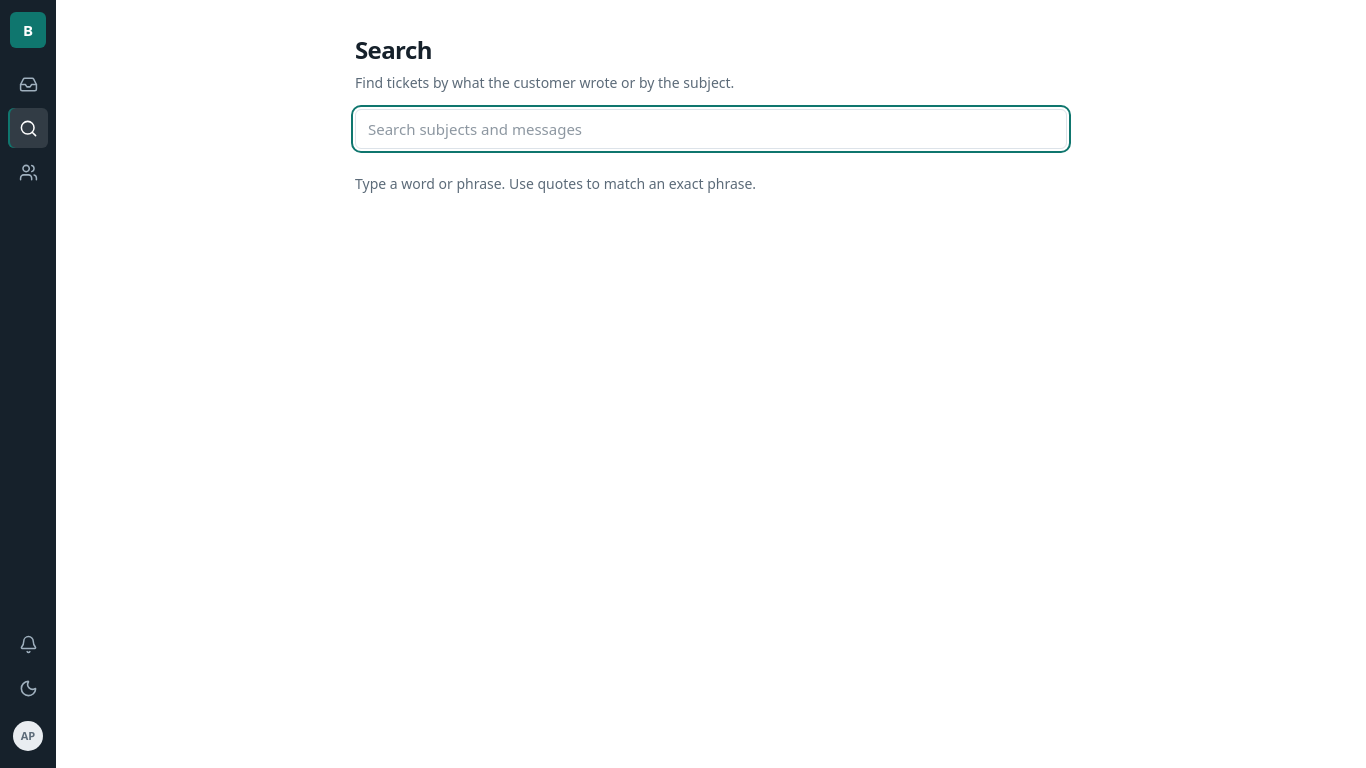
Test: search › shows highlighted matches, escapes markup, and explains an empty result
Type "boiler" into the search field named "Search tickets" at (711, 129), box [355, 109, 1067, 149]
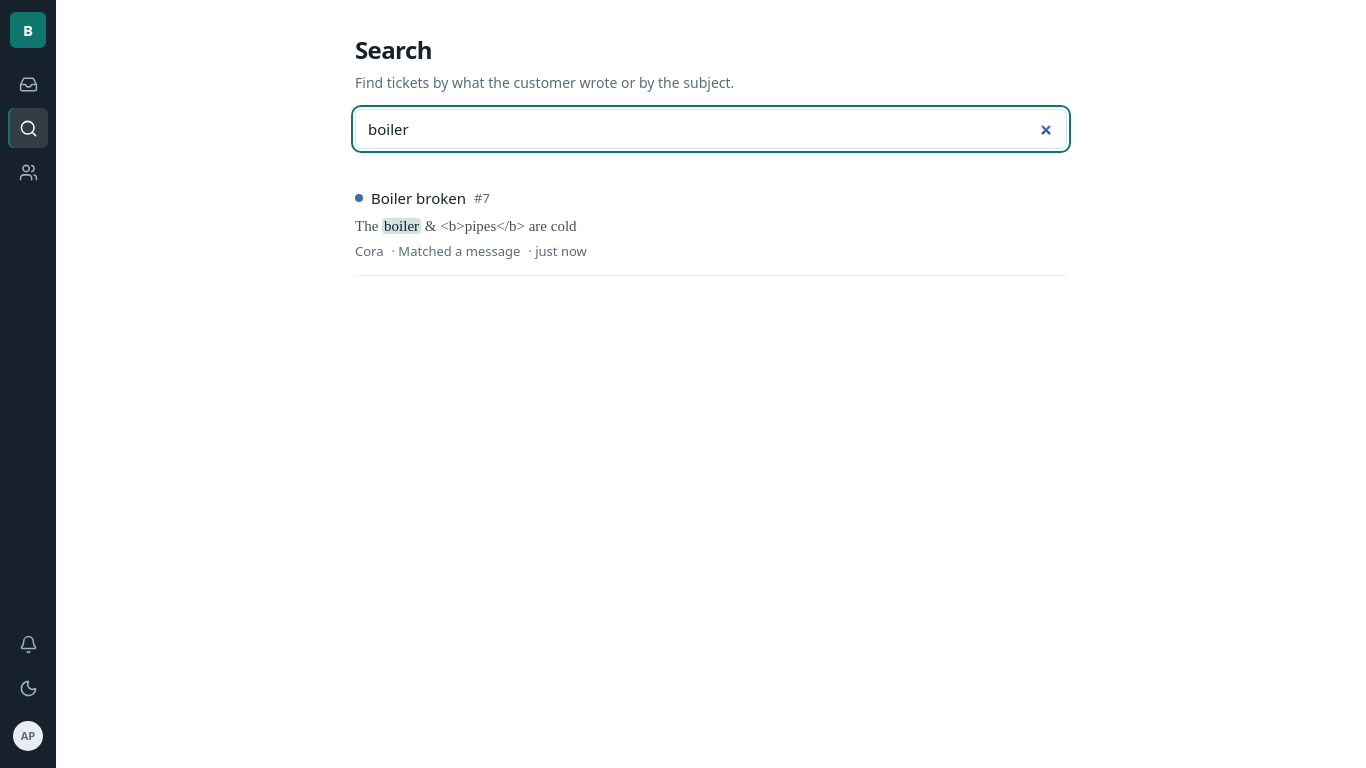
Check: the text "& <b>pipes</b> are cold" is shown, box [421, 218, 577, 234]
Replace the text in the search field named "Search tickets" with "nothing" at (711, 129), box [355, 109, 1067, 149]
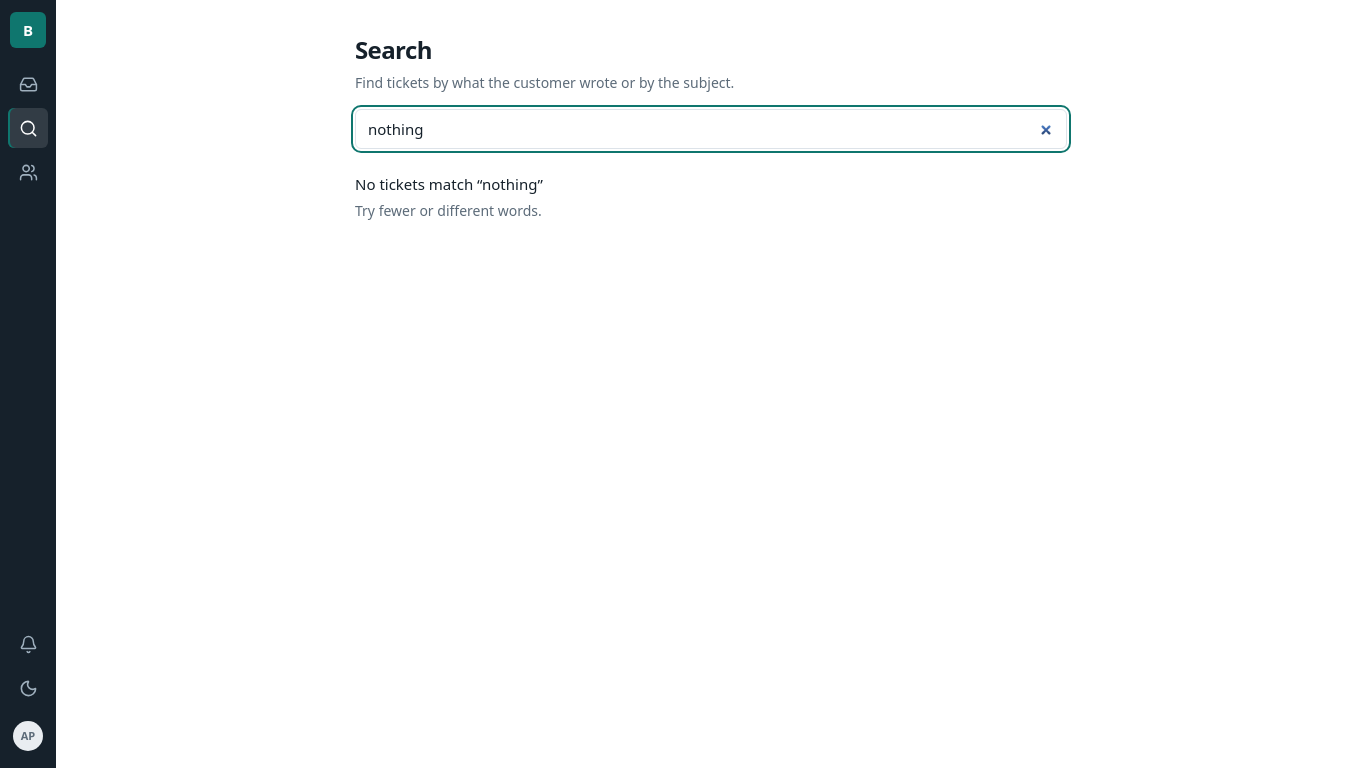
Check: the text "No tickets match “nothing”" is shown, box [355, 174, 543, 194]
